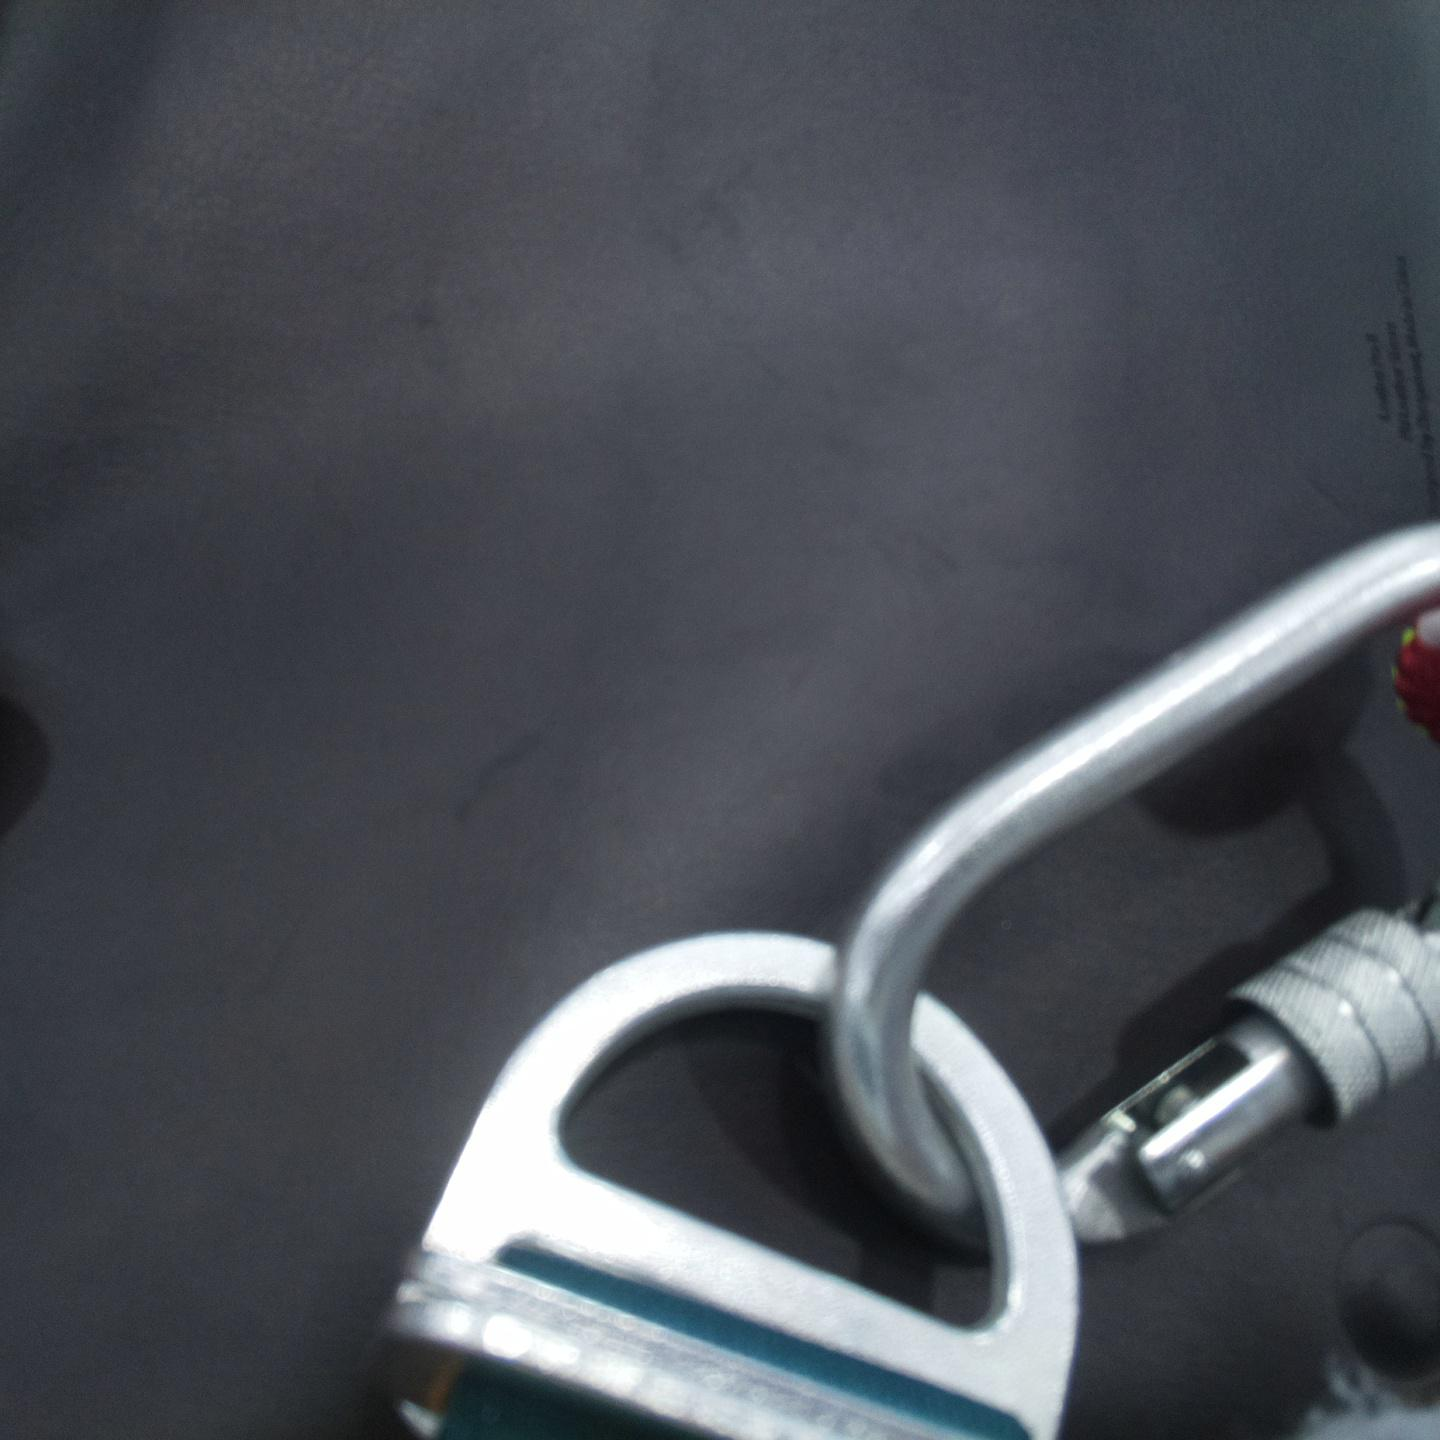SUCCESS: (465, 642, 1312, 1337)
